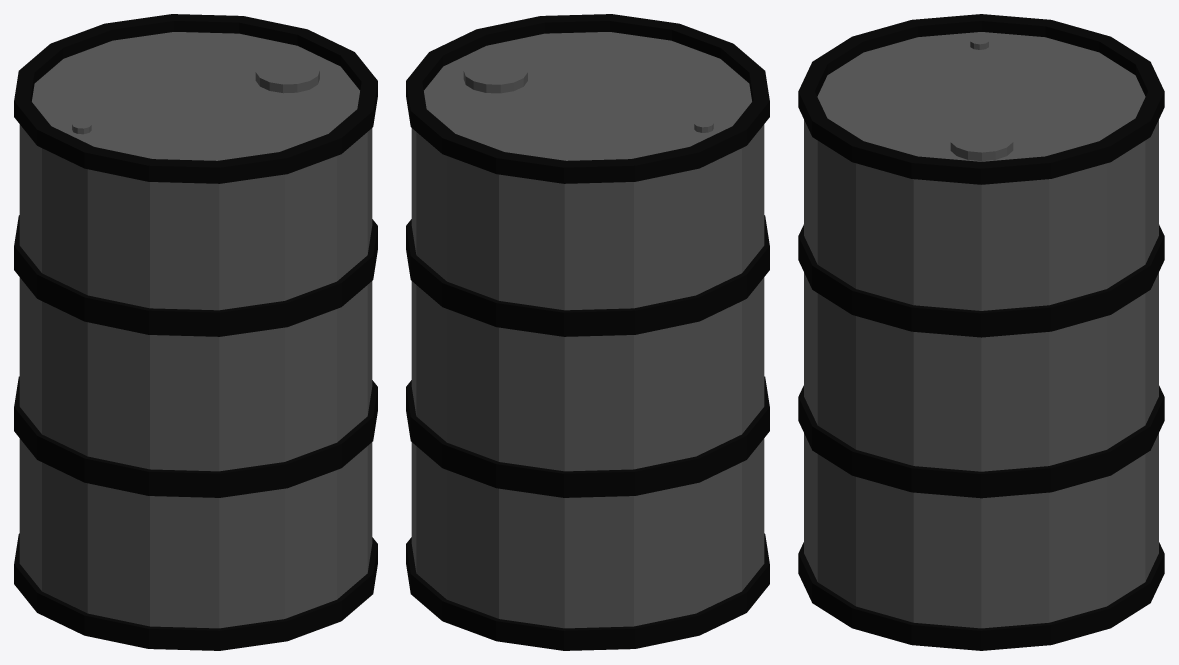
The model's file is OilBarrel.fbx.
3 renders of one model, left to right at view 1: azimuth 30°, elevation 25°; view 2: azimuth 150°, elevation 25°; view 3: azimuth 270°, elevation 25°, orthographic.
Parts seen in each view (by area): view 1: Cylinder; view 2: Cylinder; view 3: Cylinder.
Part boxes in pixels (box(x1,y1,x2,y2)): Cylinder: box(14, 14, 377, 650); Cylinder: box(406, 14, 769, 650); Cylinder: box(798, 14, 1164, 650).
Bounding box in the file's own units: 206 × 300 × 206.
